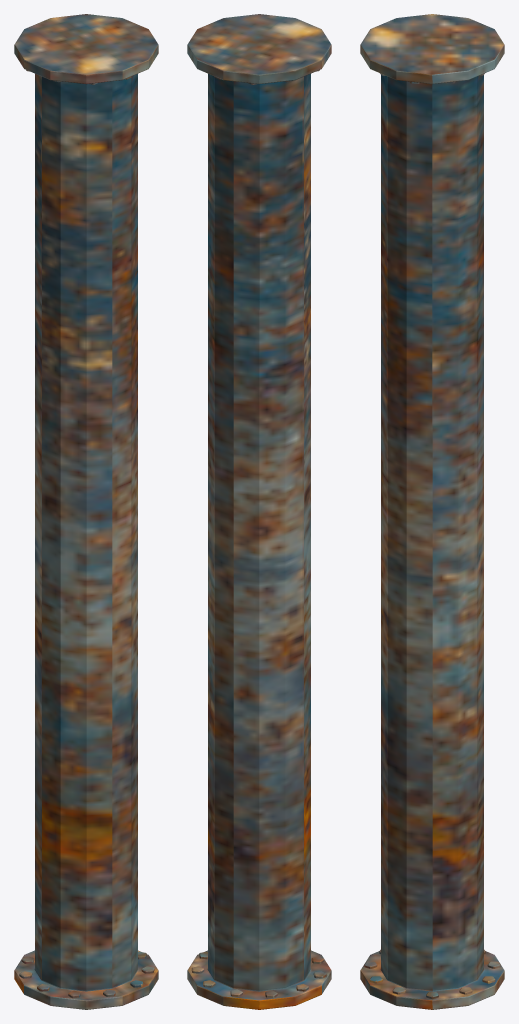
The model's file is pipe.01.fbx.
The picture shows the model from 3 angles, left to right: view 1: azimuth 30°, elevation 25°; view 2: azimuth 150°, elevation 25°; view 3: azimuth 270°, elevation 25°; orthographic projection.
Parts seen in each view (by area): view 1: Pipe.01; view 2: Pipe.01; view 3: Pipe.01.
Part boxes in pixels (x1,y1,x2,y2): Pipe.01: [14, 14, 158, 1009]; Pipe.01: [187, 14, 331, 1009]; Pipe.01: [360, 14, 504, 1009].
Bounding box in the file's own units: 55.99 × 400 × 55.99.
